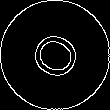O_SE: (22, 24, 88, 86)
